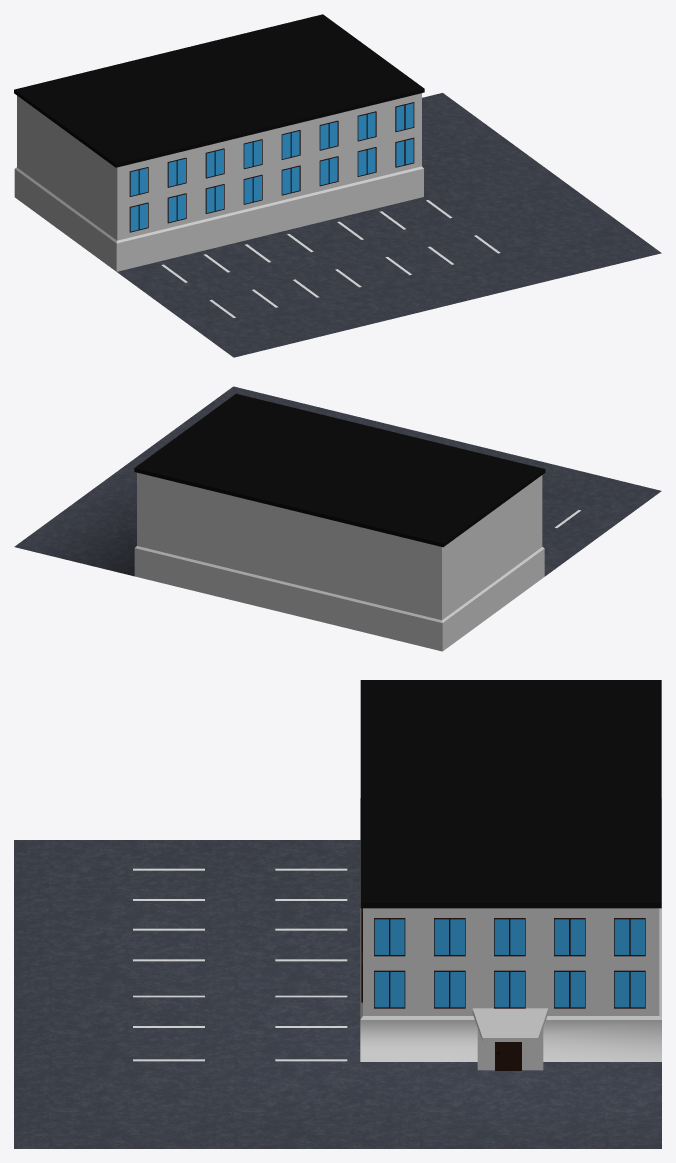
File: Hostel.fbx
3 views of the same model, one above another, from view 1: azimuth 30°, elevation 25°; view 2: azimuth 150°, elevation 25°; view 3: azimuth 270°, elevation 25° (orthographic). The views are drawn at different scales.
Parts seen in each view (by area): view 1: Plane, Cube.003, Plane.001; view 2: Plane; view 3: Plane, Cube.002, Cube.004, Plane.001, Cube.005.
Boxes of the visible parts, x1=… form: Plane: x1=14, y1=14, x2=661, y2=357; Cube.003: x1=129, y1=102, x2=414, y2=232; Plane.001: x1=161, y1=200, x2=500, y2=317; Plane: x1=14, y1=386, x2=661, y2=651; Plane: x1=14, y1=680, x2=661, y2=1148; Cube.002: x1=374, y1=918, x2=645, y2=1008; Cube.004: x1=472, y1=1008, x2=548, y2=1070; Plane.001: x1=133, y1=868, x2=347, y2=1061; Cube.005: x1=495, y1=1042, x2=521, y2=1070.
Size of the model in its own units: 4631 by 1124 by 4100.
